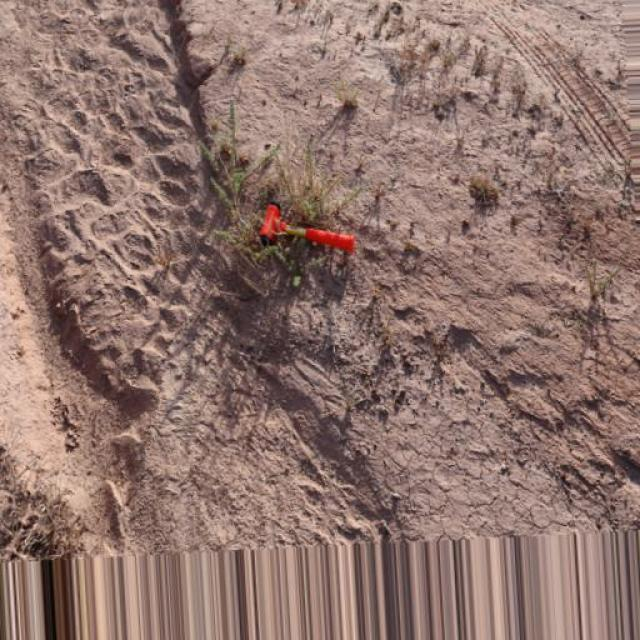mallet: (256, 201, 356, 254)
